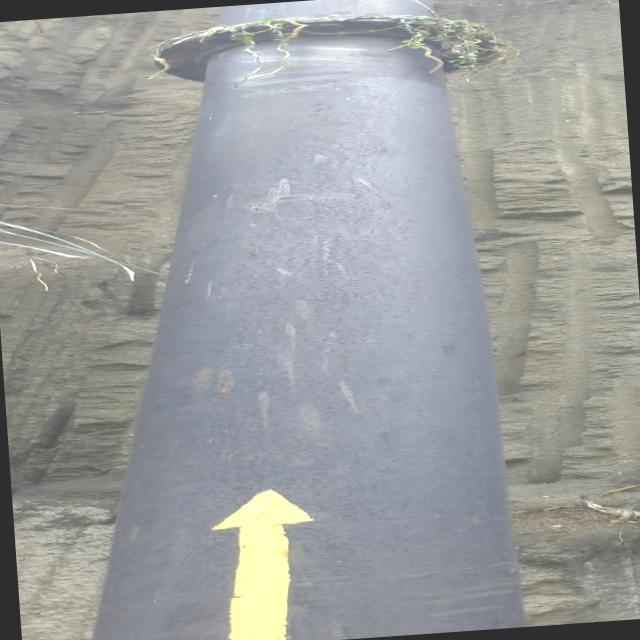gas: (57, 0, 550, 640)
